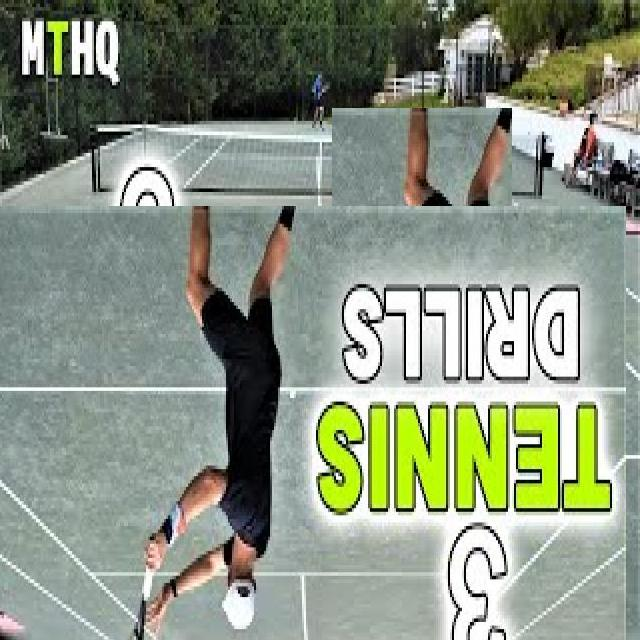court: (0, 206, 626, 640)
net: (82, 110, 556, 214)
player: (332, 108, 512, 640)
